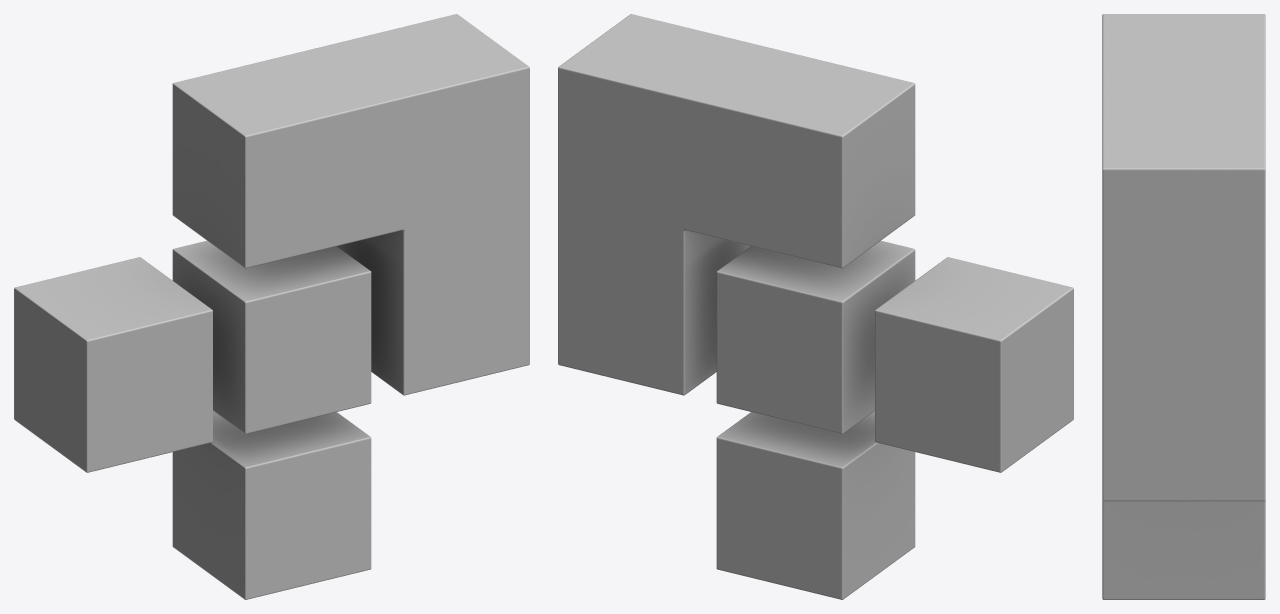
The model's file is pmndrs.glb.
3 renders of one model, left to right at view 1: azimuth 30°, elevation 25°; view 2: azimuth 150°, elevation 25°; view 3: azimuth 270°, elevation 25°, orthographic. The views are drawn at different scales.
Parts seen in each view (by area): view 1: cube; view 2: cube; view 3: cube.
Boxes of the visible parts, x1,y1,x2,y2 form: cube: (14,14,529,599); cube: (558,14,1073,599); cube: (1102,14,1265,599).
Bounding box in the file's own units: 7 × 7 × 2.
1 material, 1 textured.
